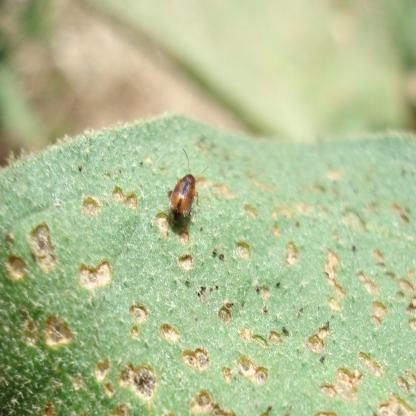beetle: (169, 150, 209, 229)
